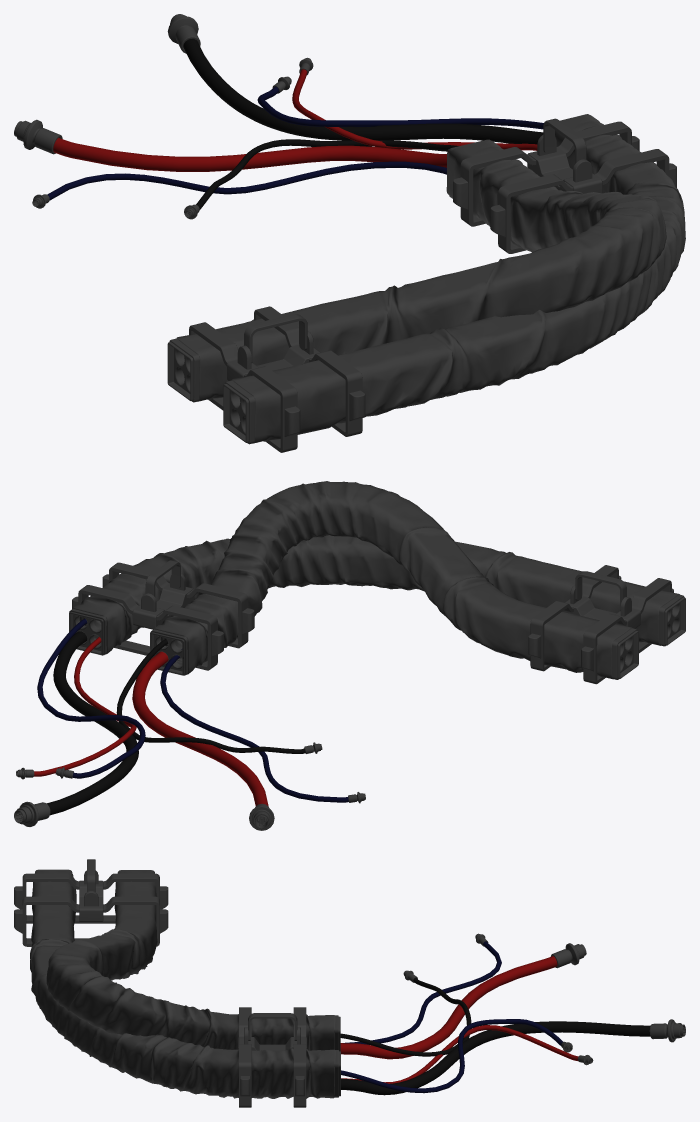
Rendered from SM_Wire02_CornerStyle02.FBX.
The picture shows the model from 3 angles, top to bottom: view 1: azimuth 30°, elevation 25°; view 2: azimuth 150°, elevation 25°; view 3: azimuth 270°, elevation 25°; orthographic projection. The views are drawn at different scales.
Visible parts, largest first — view 1: SM_Wire02_CornerStyle02; view 2: SM_Wire02_CornerStyle02; view 3: SM_Wire02_CornerStyle02.
Boxes of the visible parts, <box> form: SM_Wire02_CornerStyle02: <box>14,14,685,452</box>; SM_Wire02_CornerStyle02: <box>14,481,685,830</box>; SM_Wire02_CornerStyle02: <box>14,859,685,1107</box>.
Bounding box in the file's own units: 157 × 218 × 30.17.
